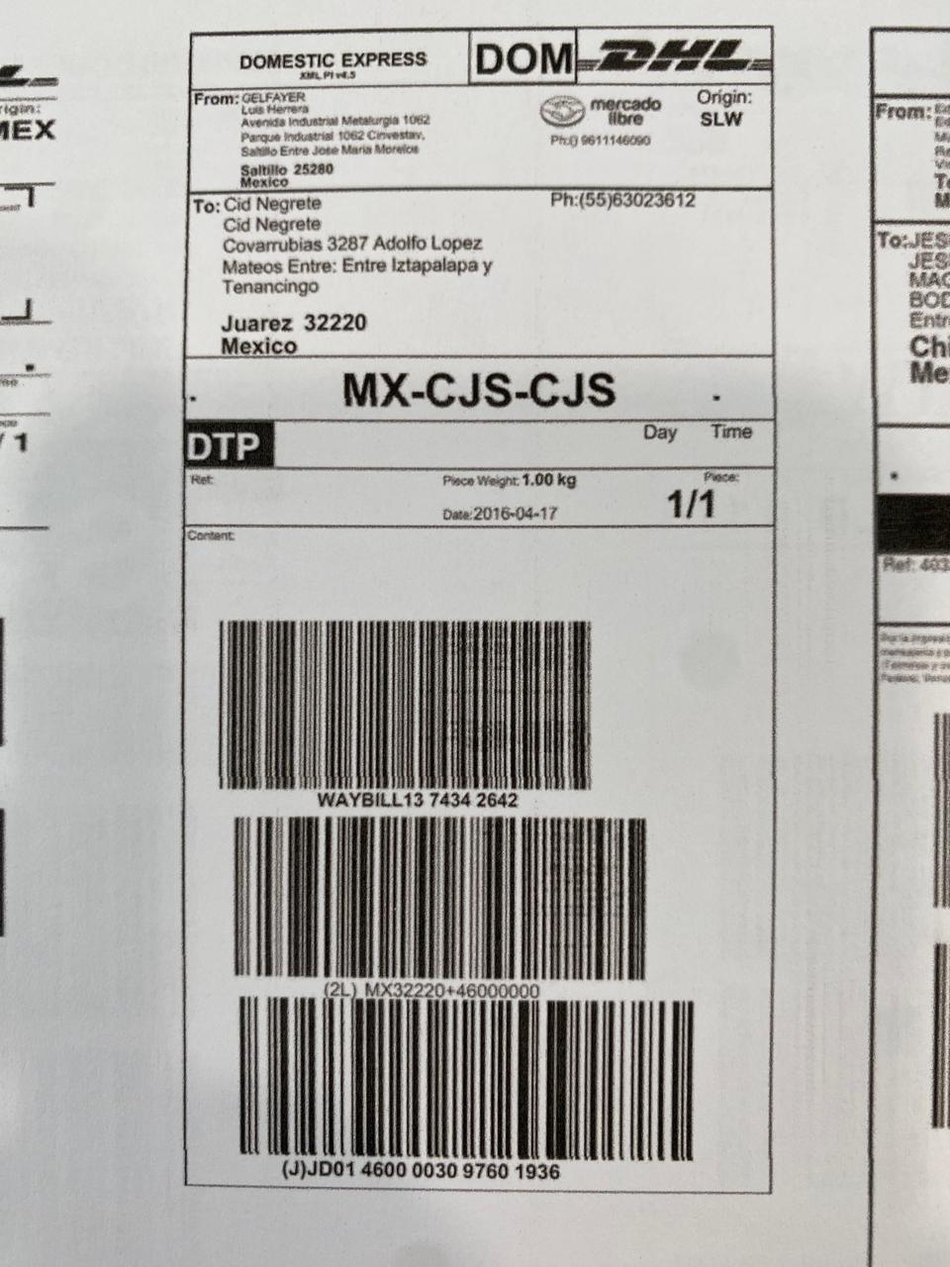waybill_text: (310, 786, 529, 817)
